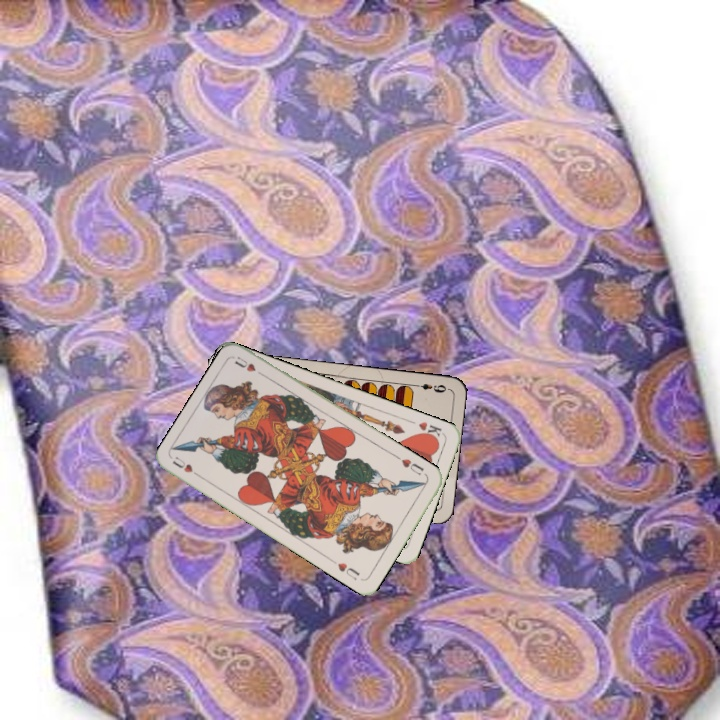E9: (410, 379, 451, 395)
HK: (414, 418, 446, 443)
HU: (168, 452, 205, 481), (397, 455, 426, 478)
